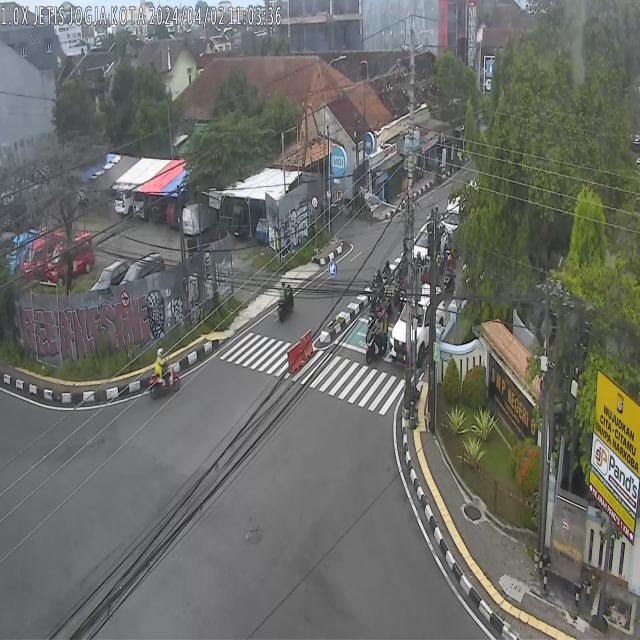car: (390, 284, 446, 366), (412, 221, 448, 269)
motorcycle: (150, 348, 181, 395), (365, 311, 388, 363), (276, 280, 294, 322), (369, 267, 383, 310), (443, 255, 456, 294), (393, 265, 403, 305), (384, 278, 394, 316), (382, 260, 391, 294)
